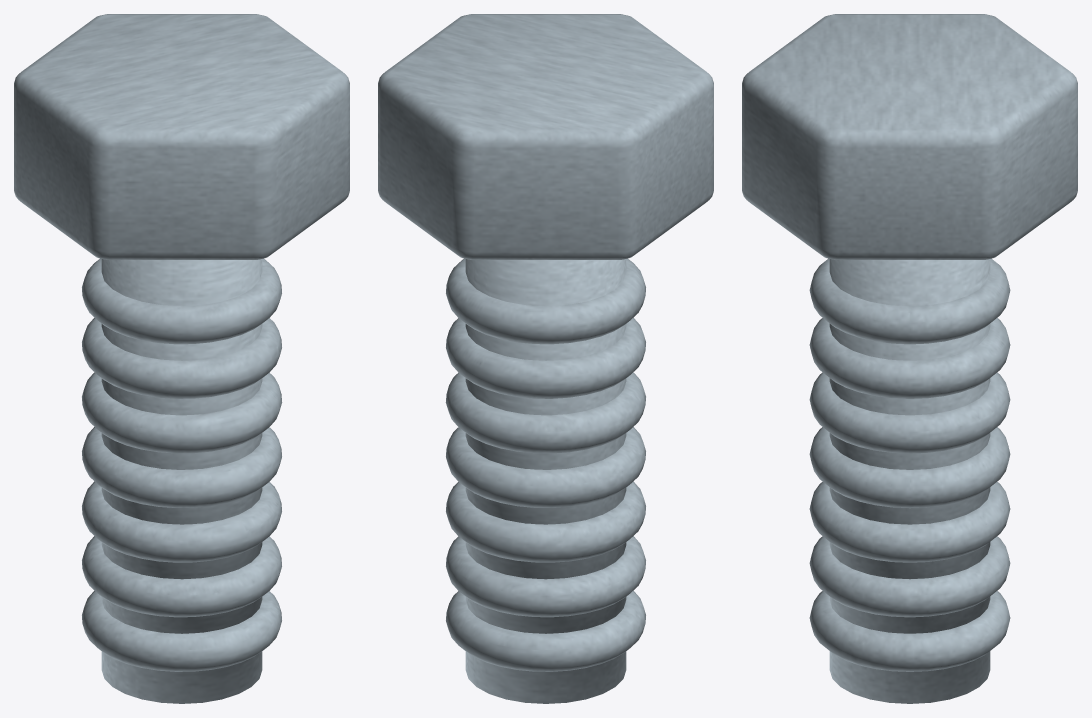
Rendered from bolt.glb.
The picture shows the model from 3 angles, left to right: view 1: azimuth 30°, elevation 25°; view 2: azimuth 150°, elevation 25°; view 3: azimuth 270°, elevation 25°; orthographic projection.
Parts seen in each view (by area): view 1: bolt_textured_mesh; view 2: bolt_textured_mesh; view 3: bolt_textured_mesh.
Boxes of the visible parts, left/top/right/bottom form: bolt_textured_mesh: left=14, top=14, right=349, bottom=703; bolt_textured_mesh: left=378, top=14, right=713, bottom=703; bolt_textured_mesh: left=742, top=14, right=1077, bottom=703.
Size of the model in its own units: 0.5196 by 1.15 by 0.5856.
1 material, 1 textured.
